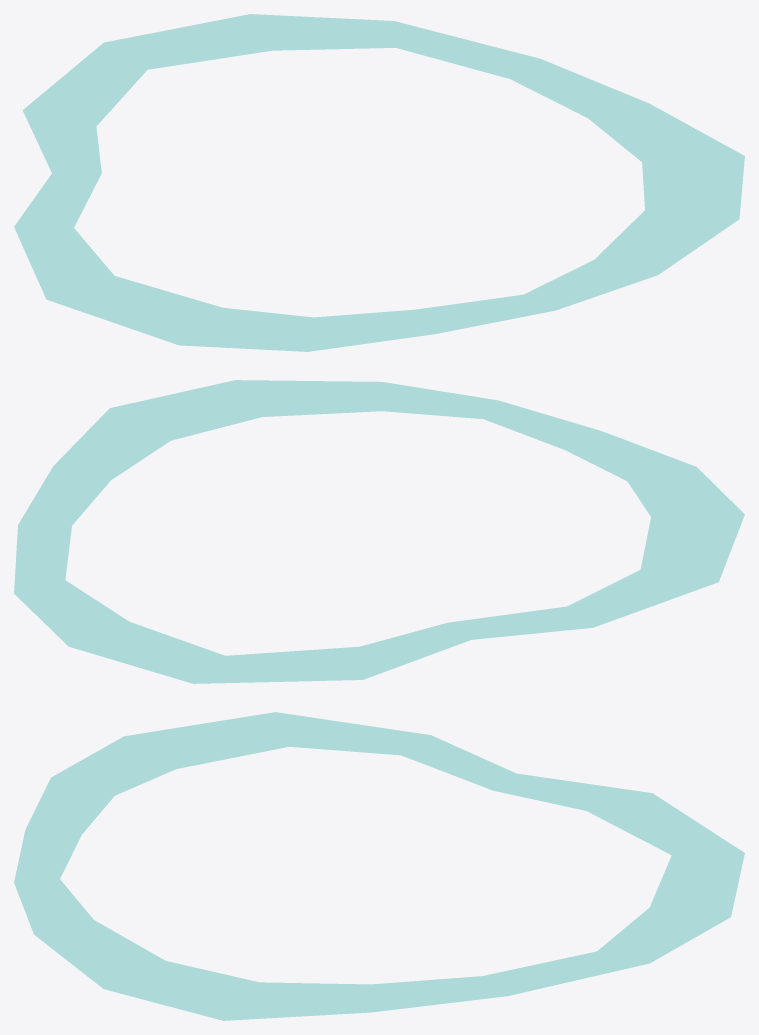
The model's file is wavewall_mesa_03.fbx.
3 renders of one model, top to bottom at view 1: azimuth 30°, elevation 25°; view 2: azimuth 150°, elevation 25°; view 3: azimuth 270°, elevation 25°, orthographic. The views are drawn at different scales.
Parts seen in each view (by area): view 1: obj0.111; view 2: obj0.111; view 3: obj0.111.
Boxes of the visible parts, x1,y1,x2,y2 form: obj0.111: (14, 14, 744, 351); obj0.111: (14, 380, 744, 683); obj0.111: (14, 712, 744, 1020).
Bounding box in the file's own units: 8.1 × 0.000351 × 8.1.
